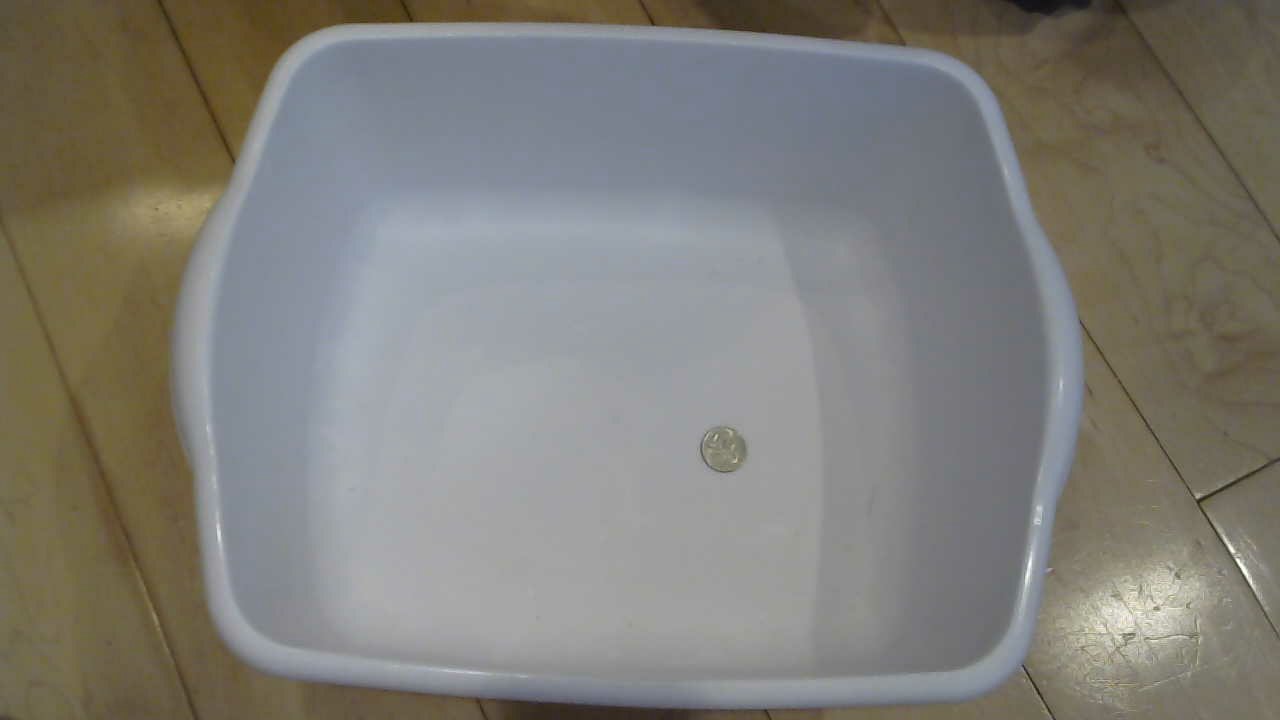coin: (695, 424, 759, 483)
